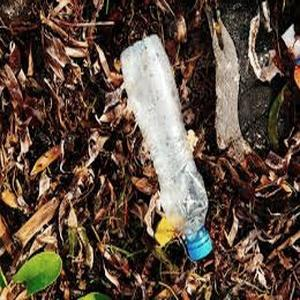Plastic: (117, 32, 216, 268)
